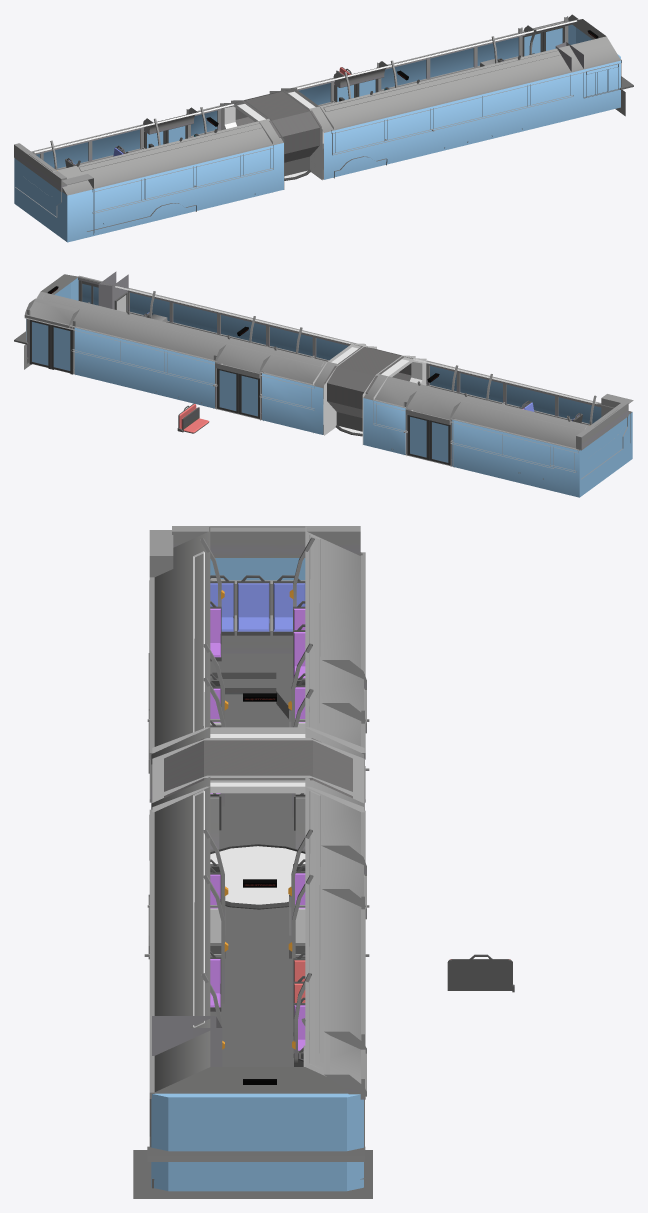
The model's file is Bendy Bus.fbx.
The picture shows the model from 3 angles, top to bottom: view 1: azimuth 30°, elevation 25°; view 2: azimuth 150°, elevation 25°; view 3: azimuth 270°, elevation 25°; orthographic projection. The views are drawn at different scales.
Visible parts, largest first — view 1: pCube8638, pCube8059, pCube8589, pCube8187, pCube8616, pCube8585, pCube8588, pCube8630, pCube8636, pCube8645, pCube8110, pCube8243 (+7 smaller); view 2: pCube8638, pCube8059, pCube8589, pCube8257 (×2), pCube8258 (×2), pCube8616, pCube8187, pCube8588, pCube8585, pCube8225, pCube8260, pCube8243 (+11 smaller); view 3: pCube8638, pCube8059, pCube8589, pCube8187, pCylinder25, pCube8588, pCube8232, pCube8072, pCube8585, pCube8061, pCube8231, pCube8225 (+8 smaller).
Boxes of the visible parts, x1,y1,x2,y2 form: pCube8638: (285, 19, 621, 179); pCube8059: (14, 101, 283, 242); pCube8589: (233, 91, 321, 176); pCube8187: (14, 143, 66, 192); pCube8616: (331, 59, 621, 133); pCube8585: (269, 88, 333, 180); pCube8588: (220, 100, 284, 189); pCube8630: (295, 20, 576, 89); pCube8636: (376, 21, 568, 69); pCube8645: (333, 61, 387, 87); pCube8110: (143, 107, 197, 134); pCube8243: (92, 144, 273, 192); pCube8638: (26, 274, 362, 434); pCube8059: (363, 357, 632, 497); pCube8589: (324, 346, 411, 431); pCube8257 (×2): (219, 370, 426, 457); pCube8258 (×2): (241, 376, 448, 462); pCube8616: (78, 275, 367, 346); pCube8187: (576, 401, 628, 450); pCube8588: (362, 355, 426, 444); pCube8585: (313, 343, 376, 435); pCube8225: (98, 271, 167, 321); pCube8260: (53, 327, 70, 370); pCube8243: (426, 360, 601, 407); pCube8638: (151, 777, 363, 1191); pCube8059: (151, 526, 363, 851); pCube8589: (164, 738, 352, 798); pCube8187: (172, 526, 360, 557); pCylinder25: (210, 844, 305, 909); pCube8588: (152, 727, 364, 796); pCube8232: (133, 1150, 372, 1198); pCube8072: (148, 653, 292, 773); pCube8585: (152, 775, 364, 812); pCube8061: (149, 530, 292, 653); pCube8231: (147, 1146, 365, 1161); pCube8225: (152, 1016, 222, 1188).
Bounding box in the file's own units: 36.34 × 4.42 × 10.59.
Materials: 1 (1 with a texture image).
